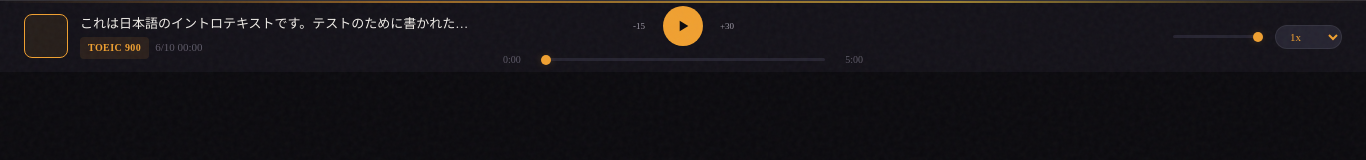
Restyled player bar (T06) › currentTime display updates in formatDuration format on timeupdate
Click the button named "再生": (683, 26) [663, 6, 703, 46]
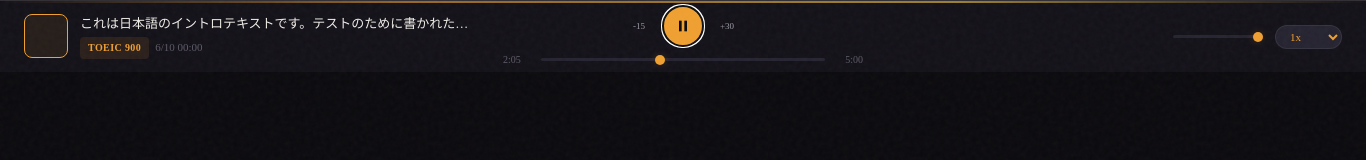
Now the text "2:05" is shown, box [503, 54, 521, 64]
